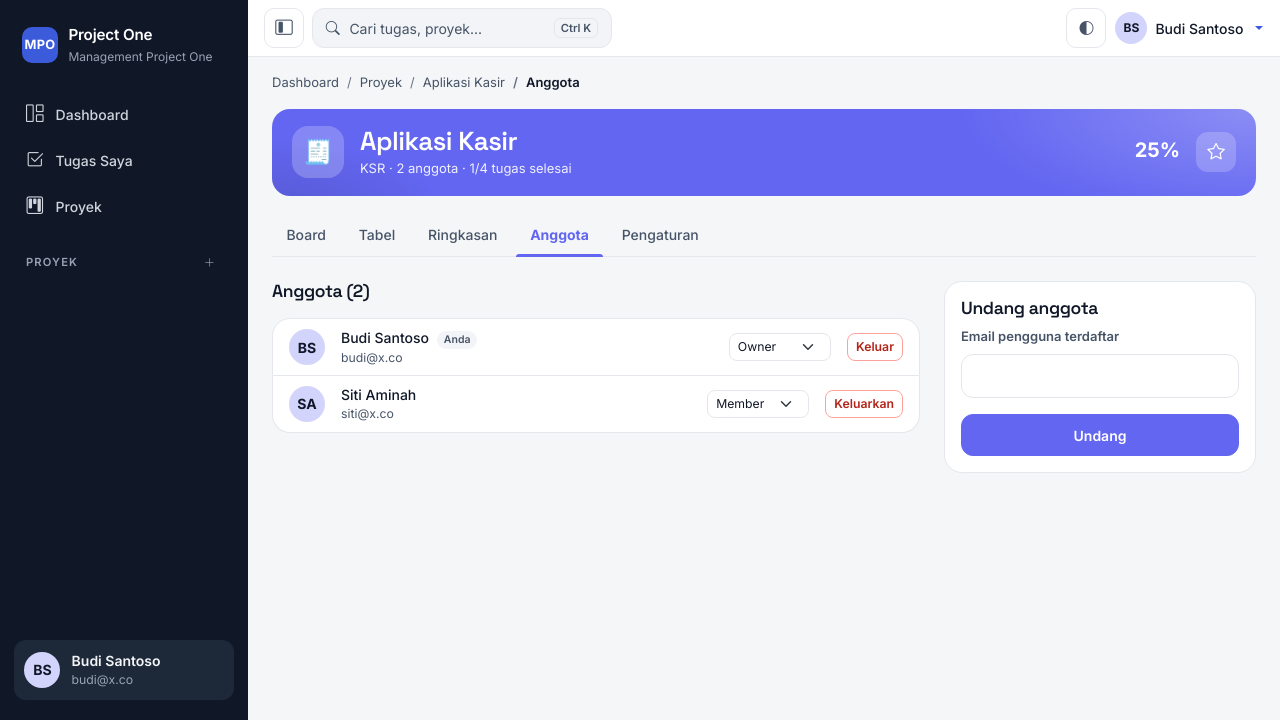
Test: anggota › ubah peran mengirim PATCH; owner terakhir (400) menampilkan pesan server
Step 1. Select "Owner" in the dropdown named "Peran Siti Aminah" → (758, 404), box [707,390,809,418]
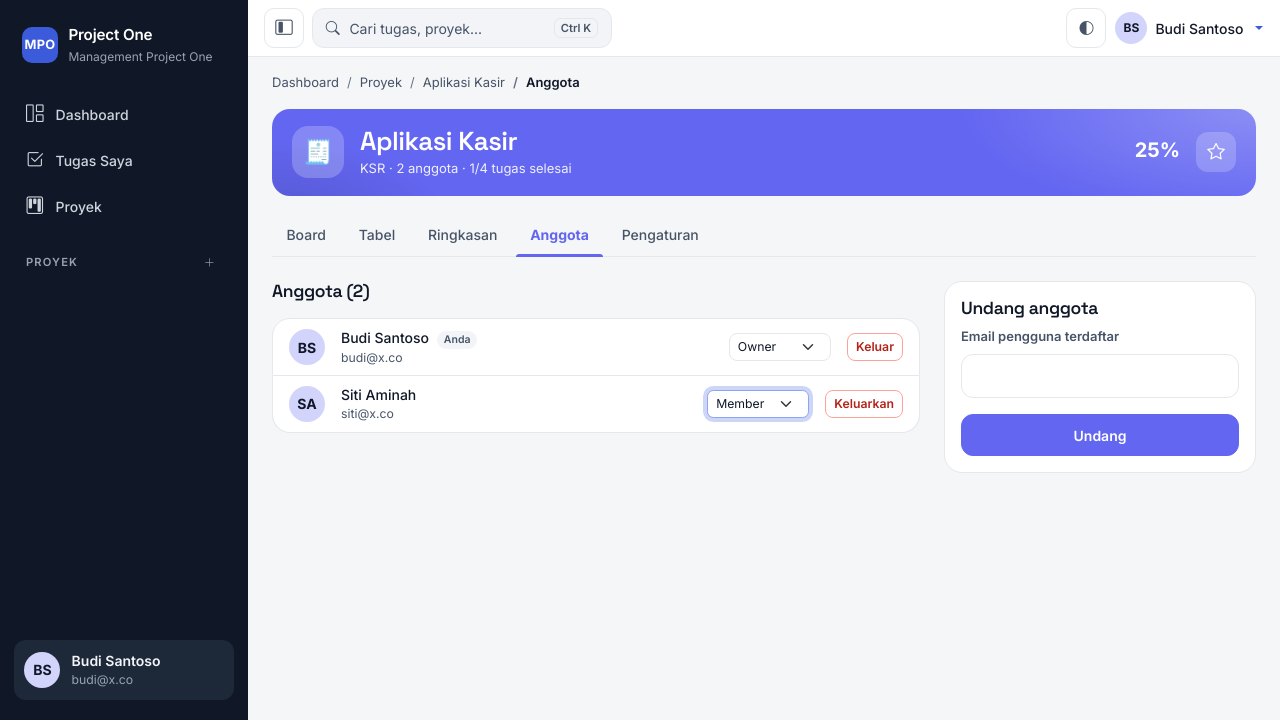
Step 2. Select "Member" in the dropdown named "Peran Budi Santoso" → (780, 347), box [729,333,831,361]
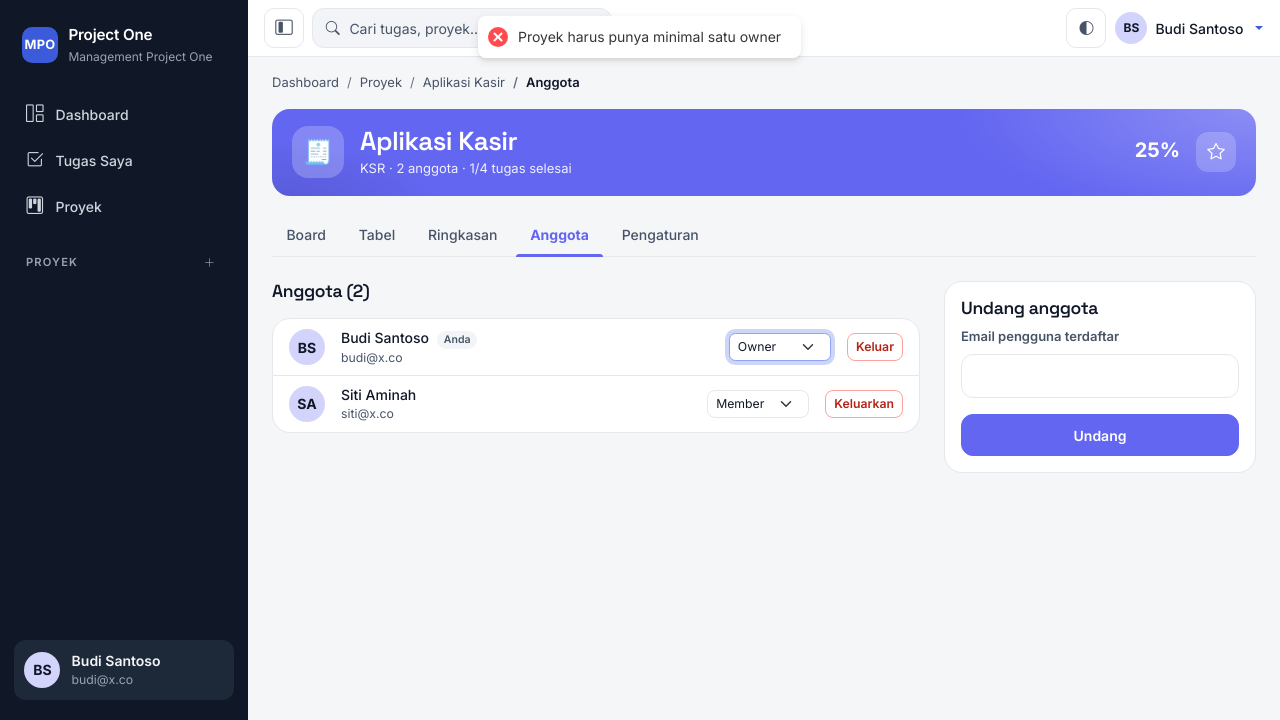
Expected: the text "Proyek harus punya minimal satu owner" is shown, [518,28,782,46]
